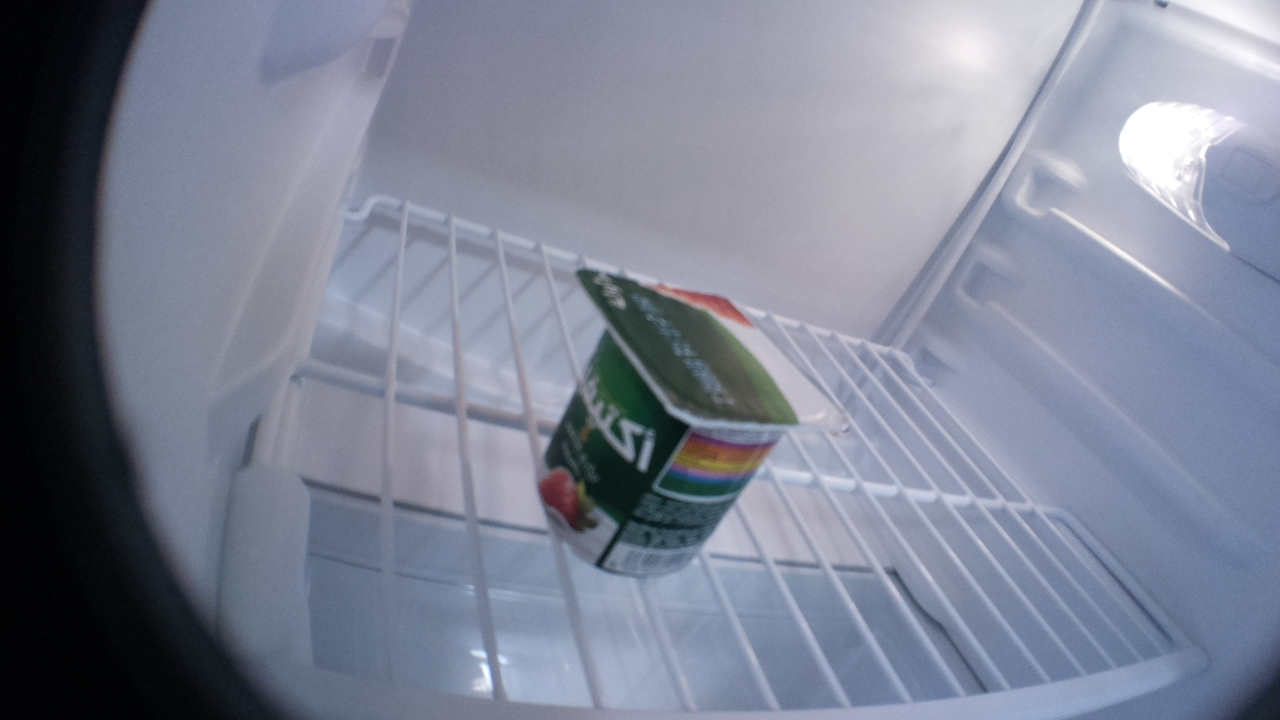yoghurt: (537, 268, 846, 580)
